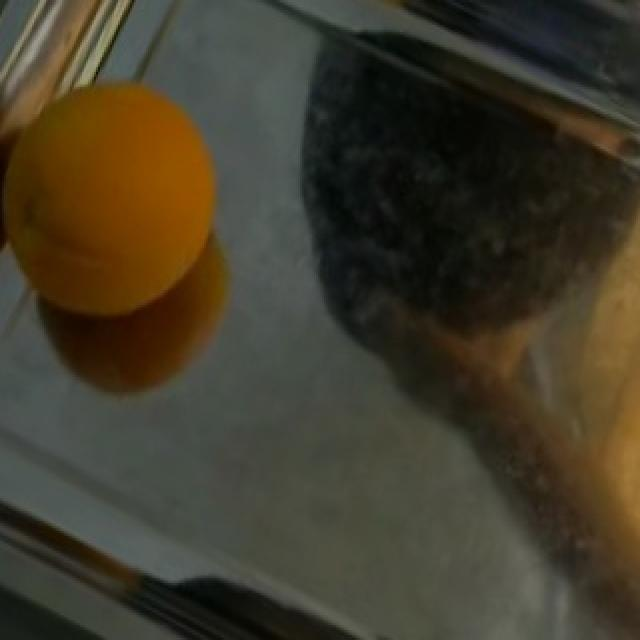Fruit: (0, 54, 250, 344)
